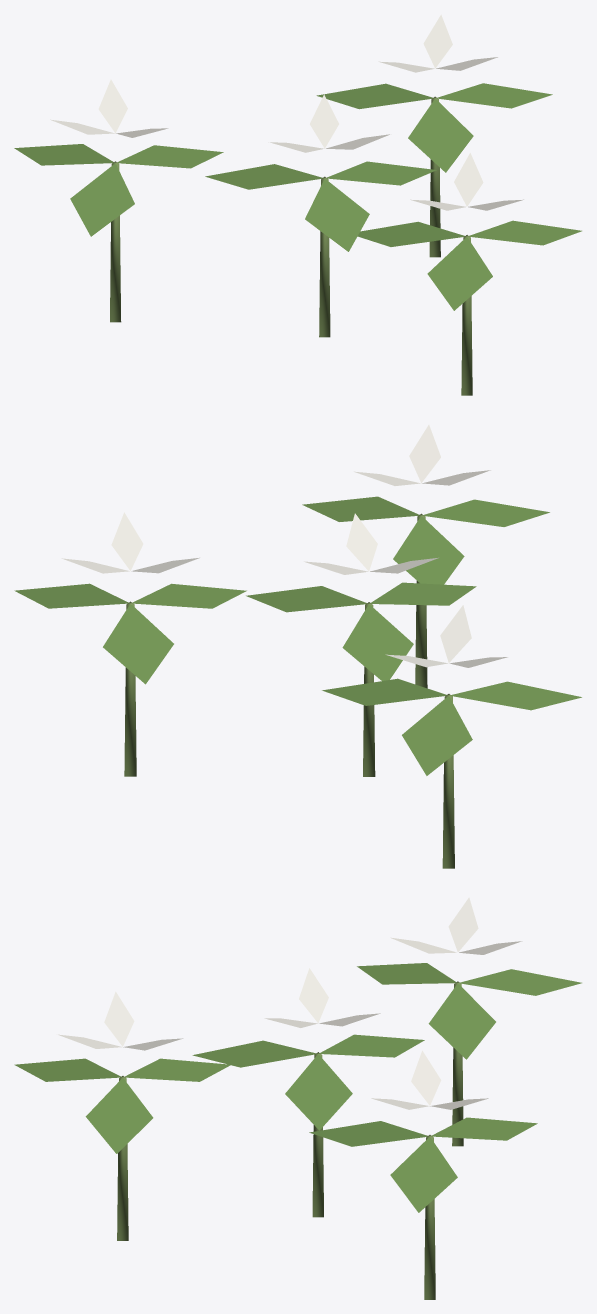
File: trillium.glb
3 views of the same model, one above another, from view 1: azimuth 30°, elevation 25°; view 2: azimuth 150°, elevation 25°; view 3: azimuth 270°, elevation 25° (orthographic). The views are drawn at different scales.
Visible parts, largest first — view 1: understory_trillium_LOD0; view 2: understory_trillium_LOD0; view 3: understory_trillium_LOD0.
Part boxes in pixels (x1=…): understory_trillium_LOD0: x1=14, y1=14, x2=581, y2=395; understory_trillium_LOD0: x1=14, y1=425, x2=581, y2=868; understory_trillium_LOD0: x1=14, y1=897, x2=581, y2=1299.
Bounding box in the file's own units: 1.05 × 0.43 × 1.02.
